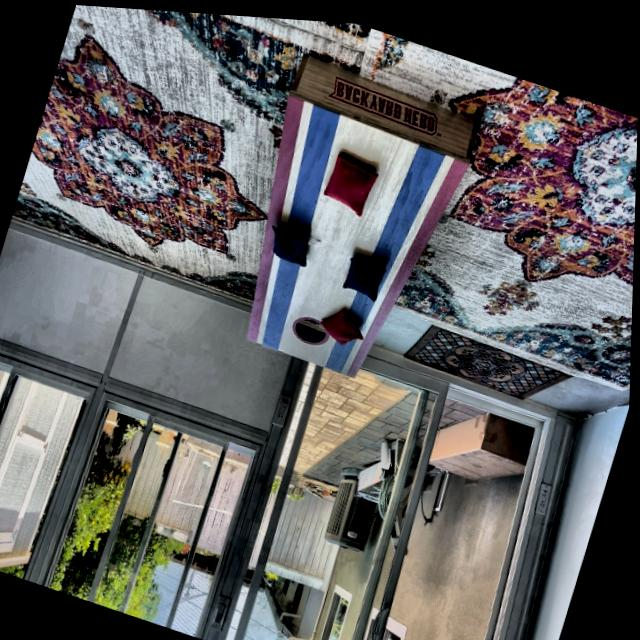blue-bean-bag: (263, 211, 316, 262), (341, 245, 389, 296)
board: (241, 94, 436, 377)
hole: (289, 306, 334, 345)
red-bean-bag: (321, 145, 380, 212), (316, 295, 372, 347)
